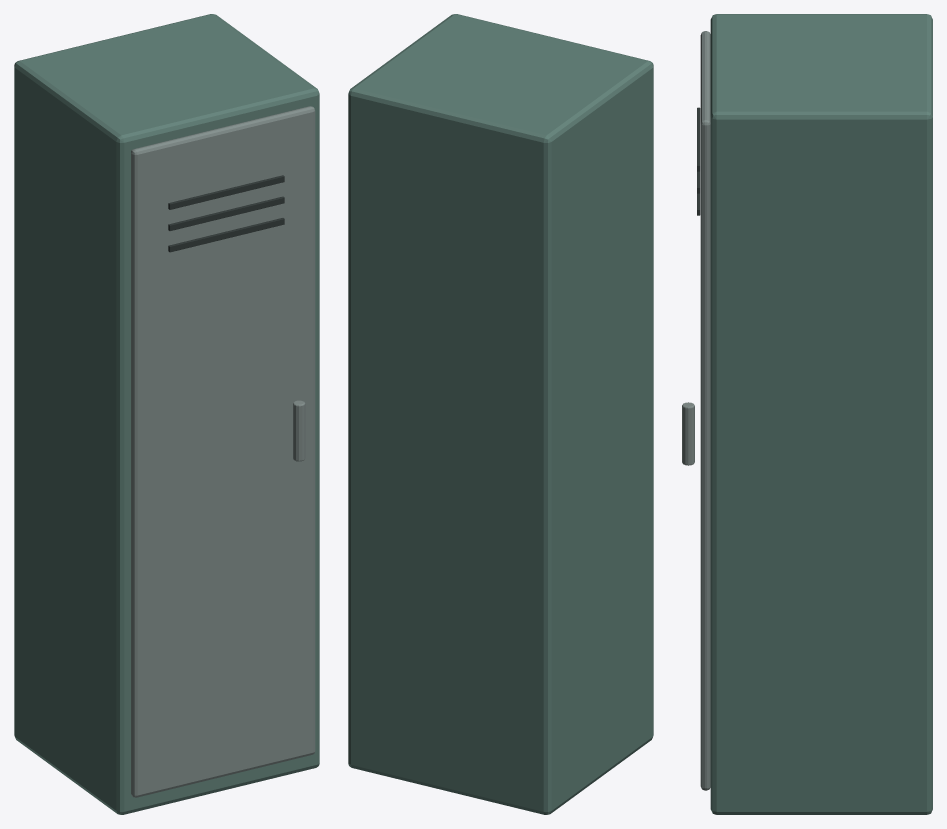
Rendered from H_Locker.fbx.
3 renders of one model, left to right at view 1: azimuth 30°, elevation 25°; view 2: azimuth 150°, elevation 25°; view 3: azimuth 270°, elevation 25°, orthographic. The views are drawn at different scales.
Visible parts, largest first — view 1: H_Locker; view 2: H_Locker; view 3: H_Locker.
Part boxes in pixels (<box>): H_Locker: <box>14,14,319,814</box>; H_Locker: <box>348,14,653,814</box>; H_Locker: <box>682,14,932,814</box>.
Bounding box in the file's own units: 0.6 × 1.92 × 0.621.
